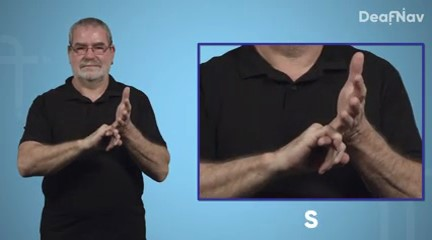S: (276, 51, 375, 185), (88, 85, 136, 154)
